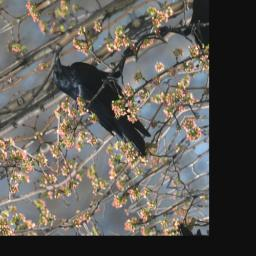Crow: (41, 17, 175, 180)
